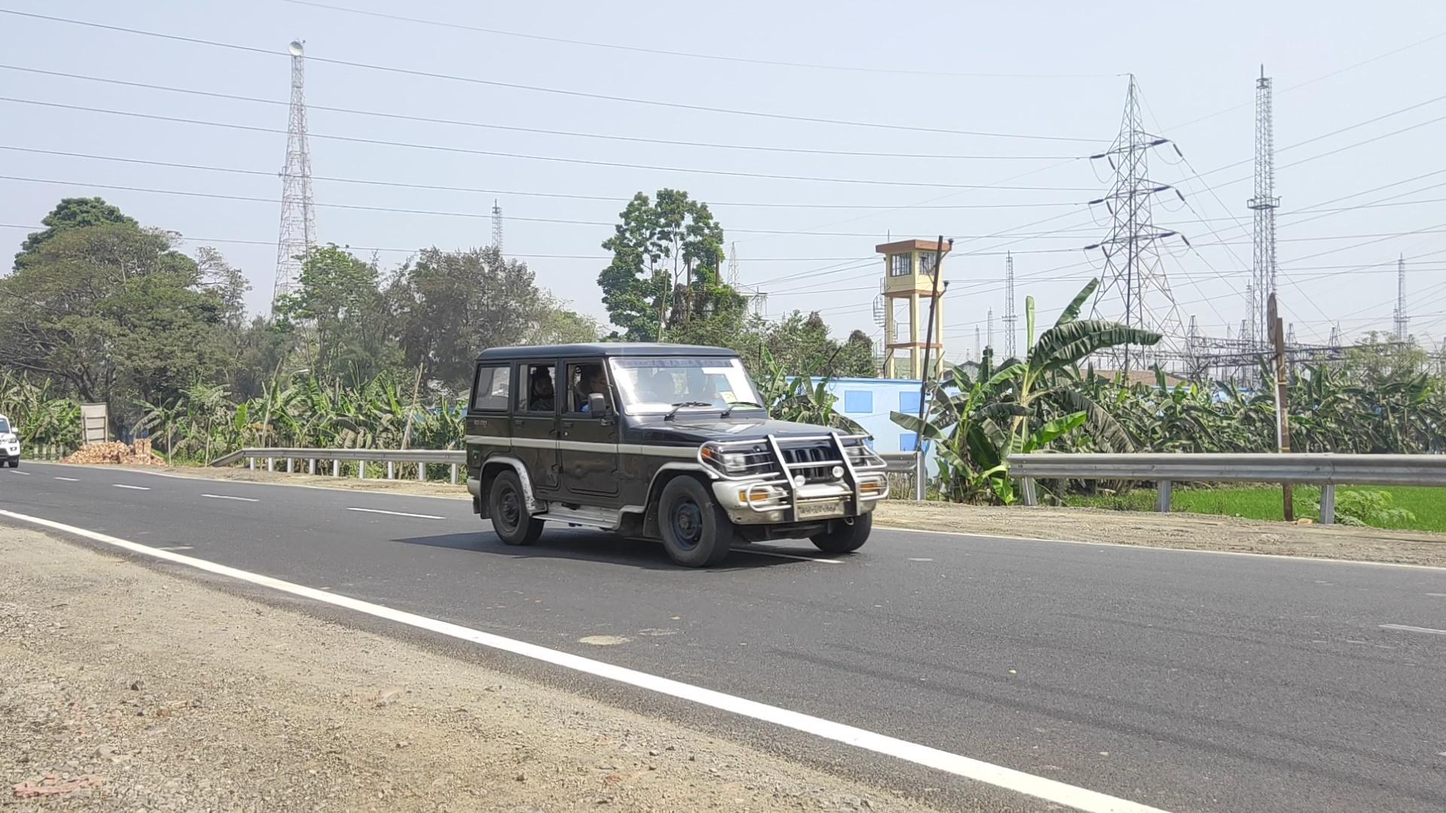car: (463, 342, 888, 567)
